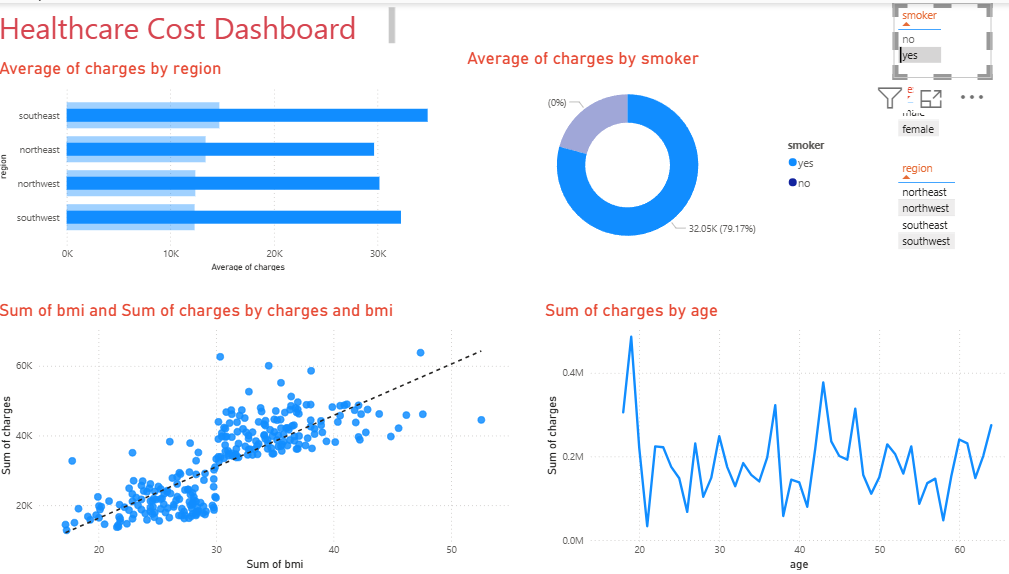

Layout of this report page (visuals, bound fields, positions):
{"tool":"powerbi","page":{"name":"Page 1","canvas":[1280,720],"ordinal":0},"visuals":[{"type":"tableEx","fields":{"Values":["insurance csv.sex"]},"box":[1131.1,92.4,112.1,99.9],"z":0},{"type":"tableEx","fields":{"Values":["insurance csv.region"]},"box":[1131.1,192.3,148.4,149.9],"z":1000},{"type":"clusteredBarChart","fields":{"Y":["Avg(insurance csv.charges)"],"Category":["insurance csv.region"]},"box":[0,69.7,561.8,272.6],"z":2000},{"type":"donutChart","fields":{"Y":["Avg(insurance csv.charges)"],"Category":["insurance csv.smoker"]},"box":[590.5,57.5,480,269.5],"z":3000},{"type":"textbox","box":[0,0,508.8,57.5],"z":4000},{"type":"tableEx","fields":{"Values":["insurance csv.smoker"]},"box":[1131.1,0,124.2,95.4],"z":5000},{"type":"scatterChart","fields":{"Category":["insurance csv.charges","insurance csv.bmi"],"X":["Sum(insurance csv.bmi)"],"Y":["Sum(insurance csv.charges)"]},"box":[0,374,660.2,345.2],"z":6000},{"type":"lineChart","fields":{"Category":["insurance csv.age"],"Y":["Sum(insurance csv.charges)"]},"box":[687.4,374,592.1,345.2],"z":7000}]}

Visuals, with their boxes on the page's 1280x720 design canvas (x1, y1, x2, y2). These are canvas units, not pixel positions in the 1009x574 screenshot, which may show the page scaled, cropped or inside an application window:
tableEx - insurance csv.sex: {"left": 1131, "top": 92, "right": 1243, "bottom": 192}
tableEx - insurance csv.region: {"left": 1131, "top": 192, "right": 1280, "bottom": 342}
clusteredBarChart - Avg(insurance csv.charges) x insurance csv.region: {"left": 0, "top": 70, "right": 562, "bottom": 342}
donutChart - Avg(insurance csv.charges) x insurance csv.smoker: {"left": 590, "top": 58, "right": 1070, "bottom": 327}
textbox: {"left": 0, "top": 0, "right": 509, "bottom": 58}
tableEx - insurance csv.smoker: {"left": 1131, "top": 0, "right": 1255, "bottom": 95}
scatterChart - insurance csv.charges x insurance csv.bmi: {"left": 0, "top": 374, "right": 660, "bottom": 719}
lineChart - insurance csv.age x Sum(insurance csv.charges): {"left": 687, "top": 374, "right": 1280, "bottom": 719}
